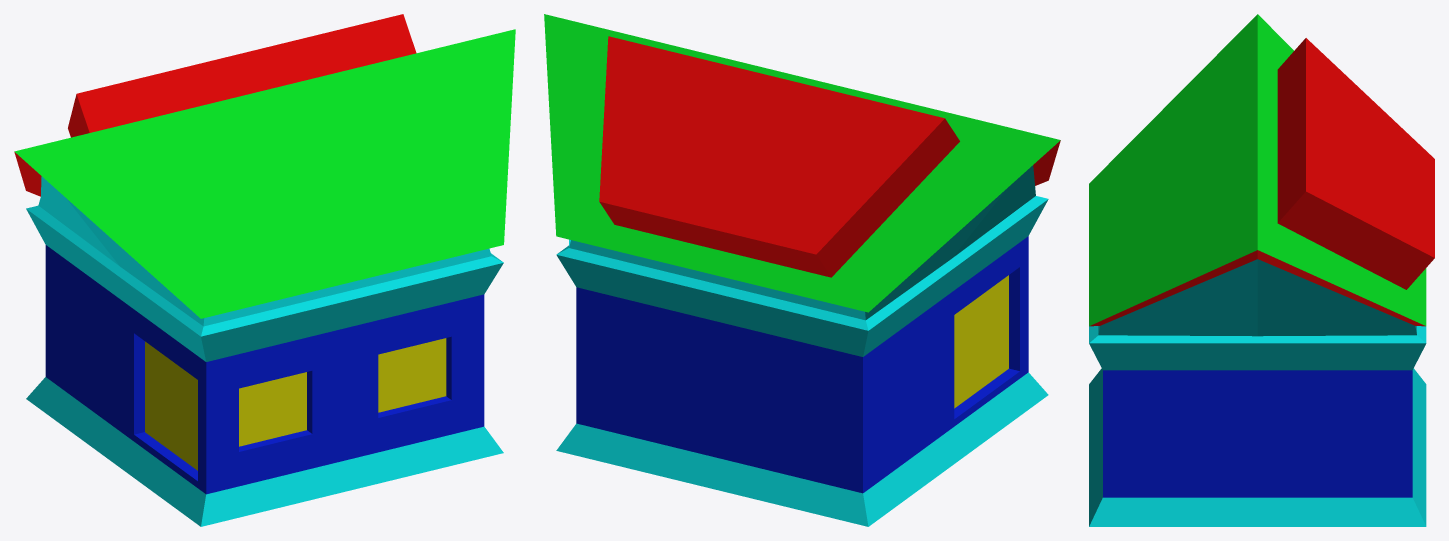
File: dom 2.fbx
3 views of the same model, side by side, from view 1: azimuth 30°, elevation 25°; view 2: azimuth 150°, elevation 25°; view 3: azimuth 270°, elevation 25° (orthographic). The views are drawn at different scales.
Visible parts, largest first — view 1: Cube; view 2: Cube; view 3: Cube.
Part boxes in pixels (<box>): Cube: <box>14,14,515,526</box>; Cube: <box>544,14,1060,526</box>; Cube: <box>1089,14,1434,526</box>.
Size of the model in its own units: 1355 by 913 by 839.
